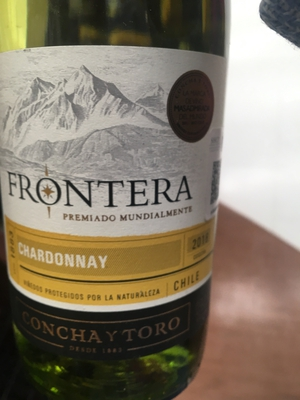frontera chardonnay: (2, 9, 232, 400)
